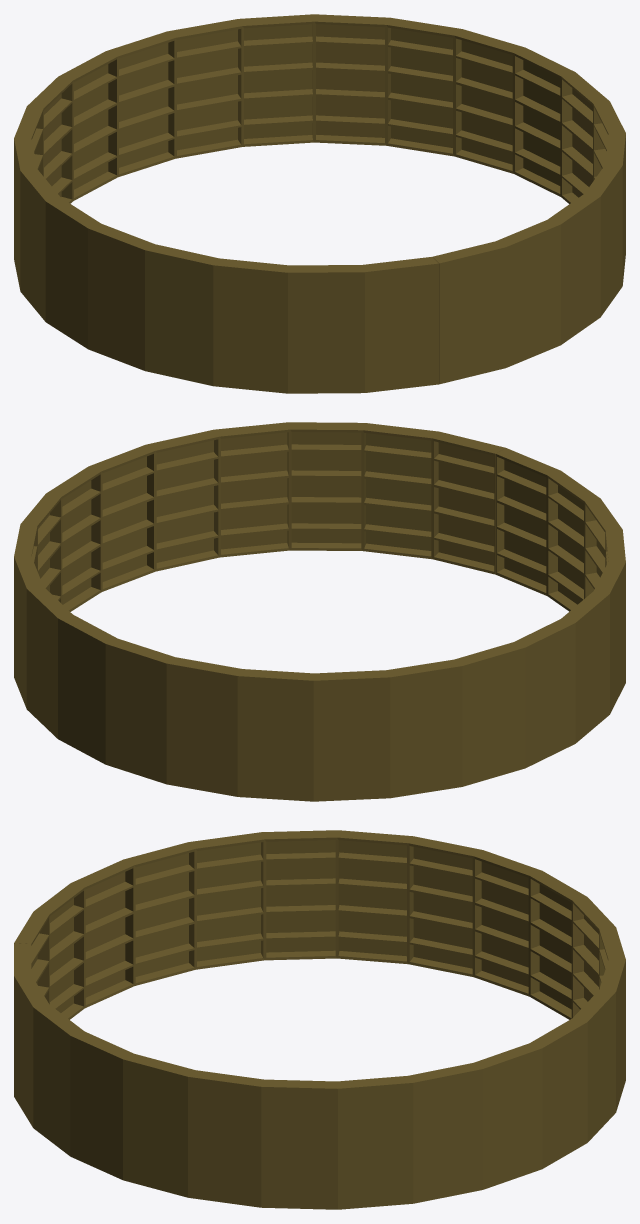
File: Bookshelf circle.fbx
3 renders of one model, top to bottom at view 1: azimuth 30°, elevation 25°; view 2: azimuth 150°, elevation 25°; view 3: azimuth 270°, elevation 25°, orthographic.
Visible parts, largest first — view 1: pCube1; view 2: pCube1; view 3: pCube1.
Boxes of the visible parts, x1,y1,x2,y2 form: pCube1: (14, 14, 625, 393); pCube1: (14, 422, 625, 801); pCube1: (14, 830, 625, 1209).
Size of the model in its own units: 459 by 100 by 458.
